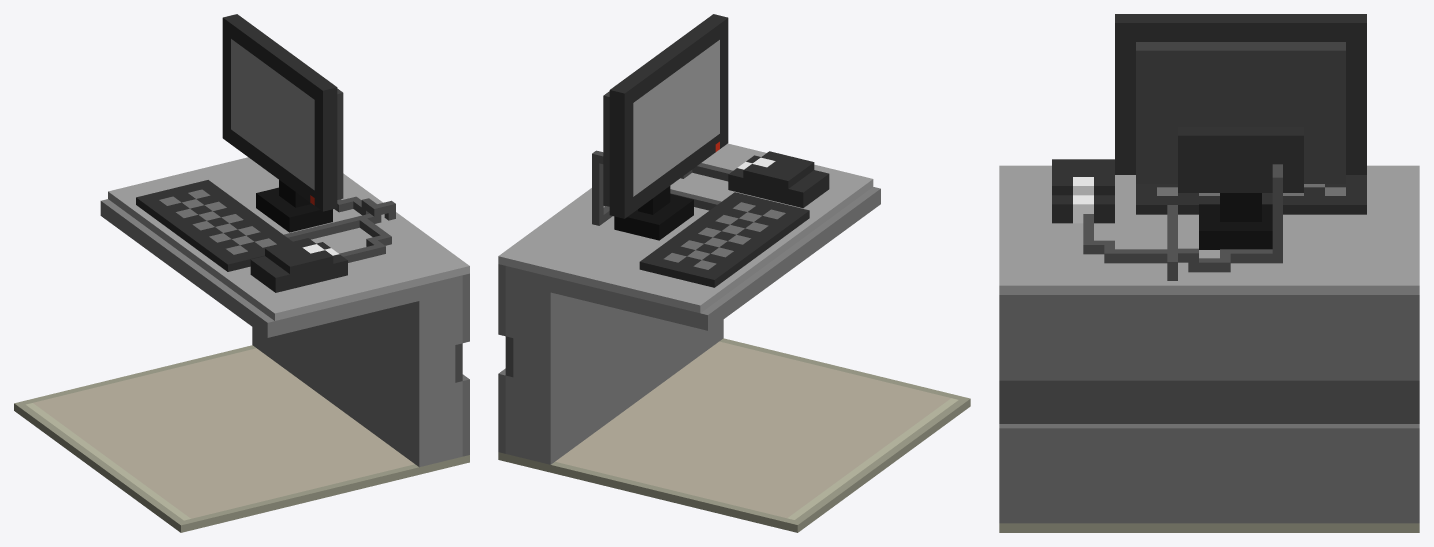
The model's file is Mesa_Meio_PC_1.obj.
The picture shows the model from 3 angles, left to right: view 1: azimuth 30°, elevation 25°; view 2: azimuth 150°, elevation 25°; view 3: azimuth 270°, elevation 25°; orthographic projection. The views are drawn at different scales.
Size of the model in its own units: 40 by 48 by 40.
1 material, 1 textured.
